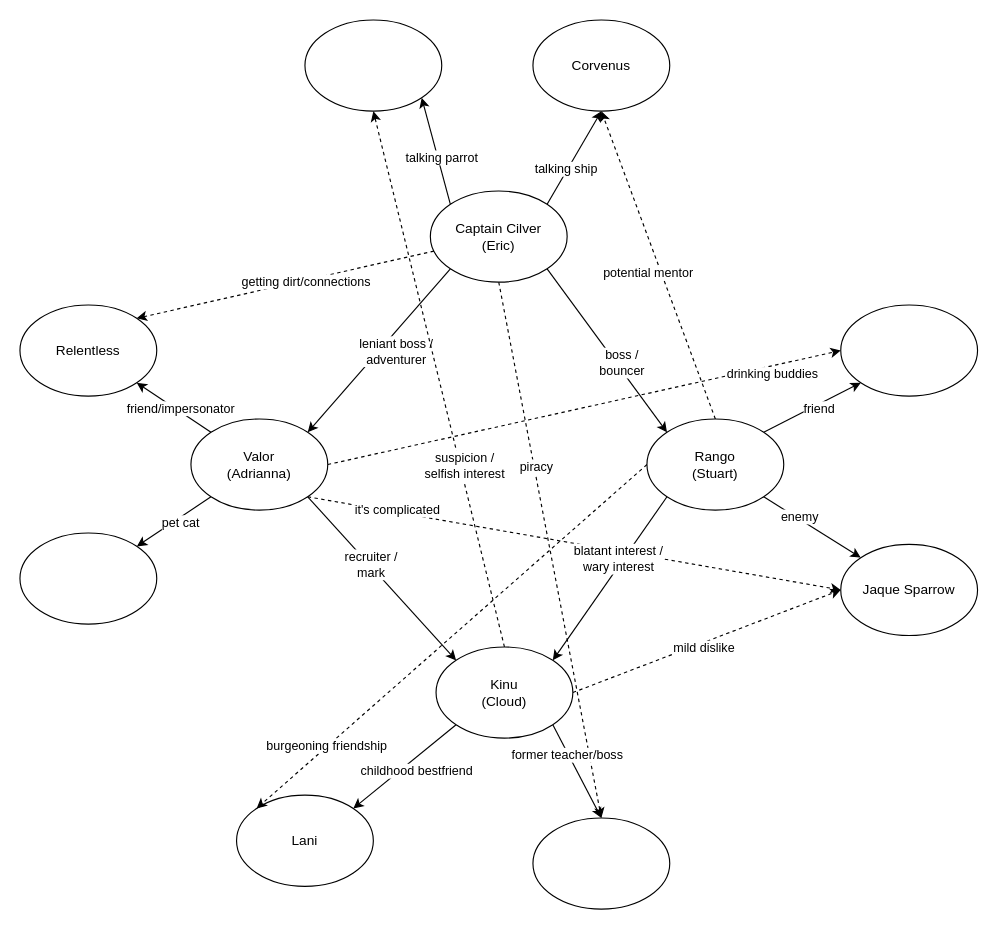
The diagram is 998 pixels wide and 929 high, and some of its shapes have lost their labels. Each missing label, with the centre of its shape:
Grave of Men: (x=88, y=578)
Sallhador: (x=373, y=65)
Tarrant Hightopp: (x=909, y=350)
Tumble: (x=601, y=863)
